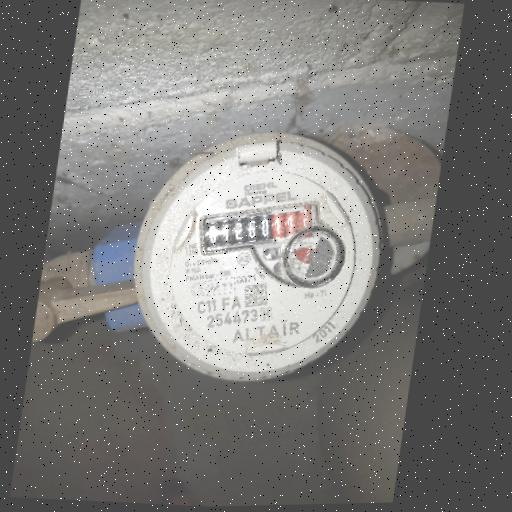0: (203, 220, 224, 248), (254, 213, 275, 241)
1: (268, 212, 291, 241), (283, 210, 305, 238), (216, 217, 237, 246)
2: (229, 216, 251, 245)
5: (297, 203, 317, 232)
6: (242, 215, 263, 243)
border_water_meter_number: (188, 185, 329, 267)
